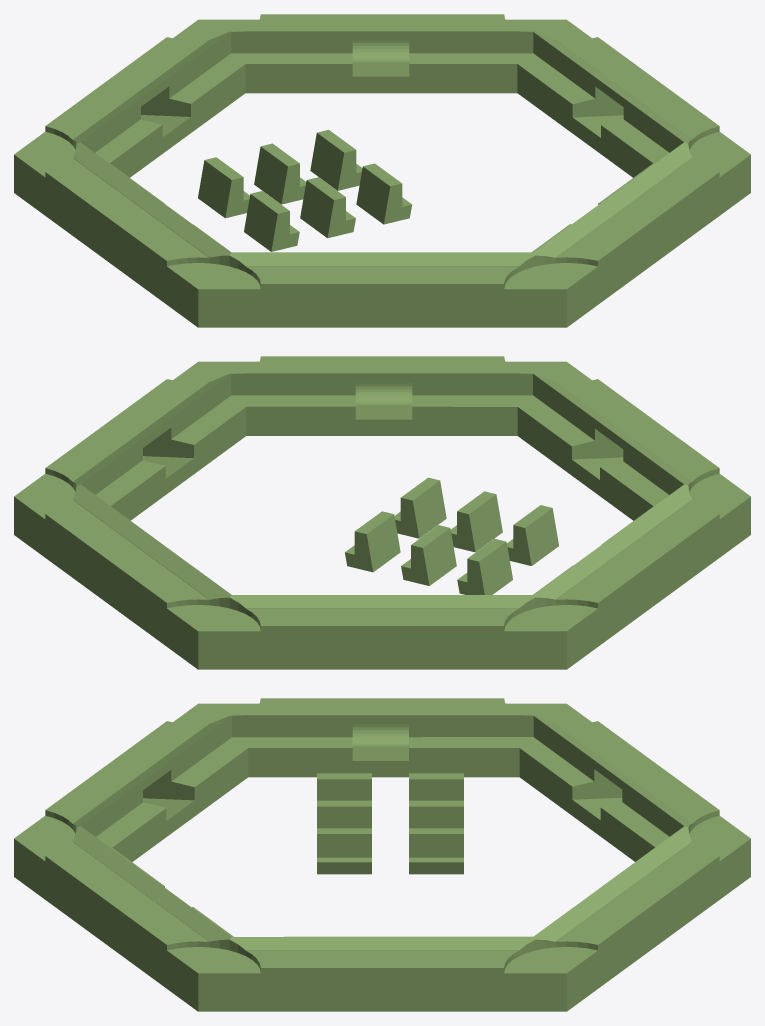
File: base_wood.glb
The picture shows the model from 3 angles, top to bottom: view 1: azimuth 30°, elevation 25°; view 2: azimuth 150°, elevation 25°; view 3: azimuth 270°, elevation 25°; orthographic projection.
Parts seen in each view (by area): view 1: base_wood; view 2: base_wood; view 3: base_wood.
Part boxes in pixels (box(x1,y1,x2,y2)): base_wood: box(14, 14, 750, 327); base_wood: box(14, 356, 750, 669); base_wood: box(14, 698, 750, 1011).
Size of the model in its own units: 79 by 6.95 by 91.22.
